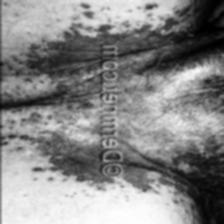Toxin: (128, 174, 156, 192), (80, 9, 96, 19), (143, 4, 158, 12), (31, 165, 42, 173)
